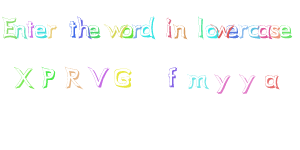E: (1, 15, 17, 41)
G: (112, 67, 138, 91)
P: (38, 64, 59, 92)
R: (62, 65, 85, 91)
V: (87, 64, 109, 90)
X: (11, 63, 37, 93)
a: (262, 69, 286, 95), (260, 23, 271, 42)
c: (248, 24, 259, 41)
d: (141, 12, 160, 41)
e: (34, 22, 47, 42), (279, 23, 294, 40), (89, 20, 101, 41), (227, 24, 240, 39)
f: (157, 63, 186, 91)
h: (77, 13, 90, 40)
i: (162, 17, 173, 41)
l: (194, 13, 207, 41)
m: (184, 71, 211, 92)
n: (172, 22, 189, 42), (15, 22, 28, 42)
o: (204, 20, 218, 40), (120, 23, 133, 40)
r: (45, 21, 58, 41), (131, 22, 143, 41), (238, 23, 248, 40)
s: (271, 22, 281, 42)
t: (64, 18, 77, 39), (26, 17, 36, 40)
w: (106, 21, 125, 43), (215, 22, 231, 40)
y: (235, 69, 260, 97), (213, 70, 233, 96)
